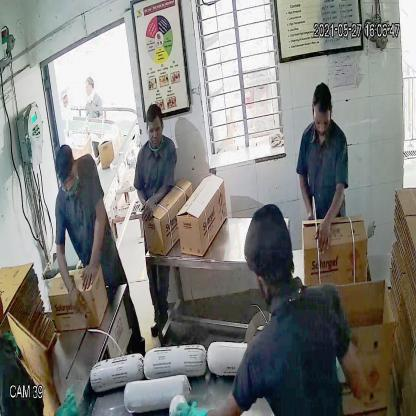no_goggles: (310, 108, 335, 134), (56, 170, 79, 192)
